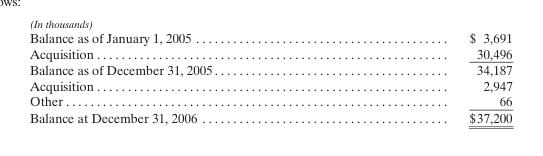table: (29, 29, 511, 125)
table column: (29, 29, 340, 125), (340, 29, 511, 125)
table row: (29, 29, 511, 45), (29, 45, 511, 61), (29, 61, 511, 77), (29, 77, 511, 93), (29, 93, 511, 109), (29, 109, 511, 125)
